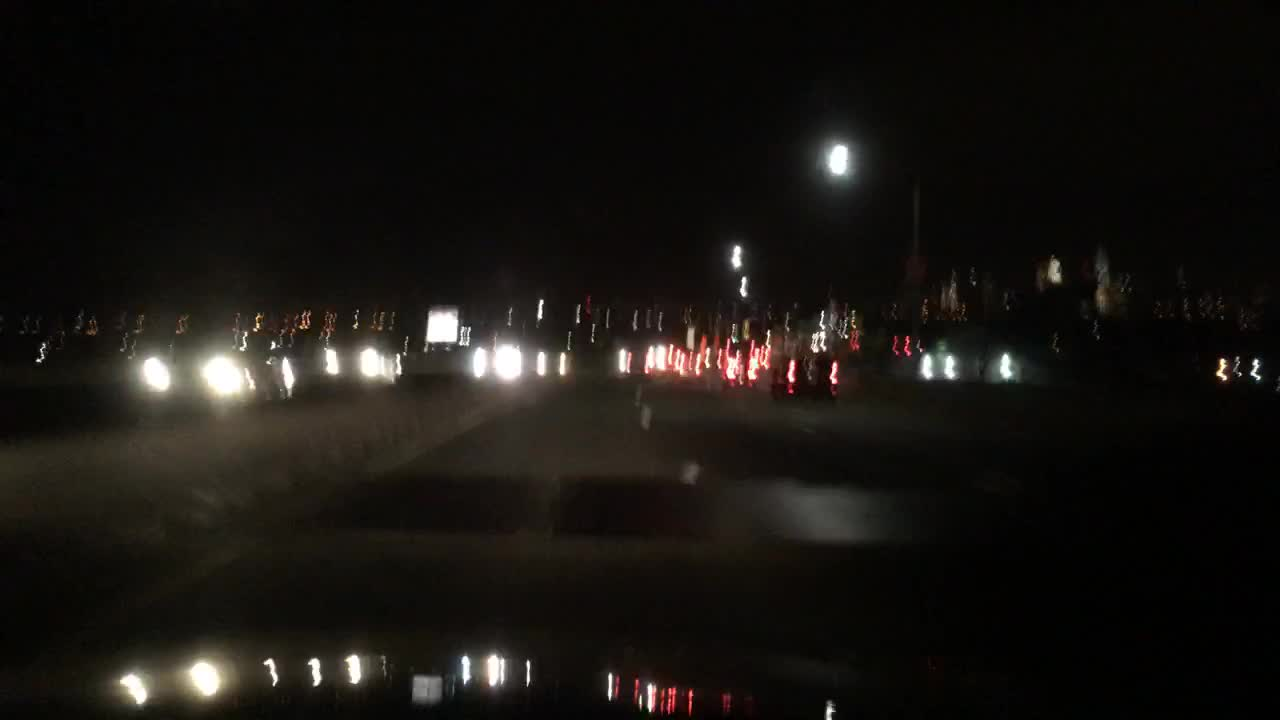car: (41, 336, 251, 422), (262, 336, 347, 404), (771, 347, 848, 399), (460, 338, 531, 380), (348, 343, 411, 389), (720, 335, 766, 383), (531, 343, 575, 382), (614, 344, 665, 374), (671, 347, 708, 377)
